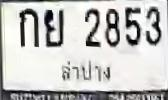2: (84, 7, 100, 46)
3: (144, 5, 162, 44)
5: (124, 5, 140, 46)
8: (104, 8, 119, 46)
A01: (18, 8, 38, 46)
A34: (43, 8, 63, 46)
LPG: (57, 58, 116, 85)
